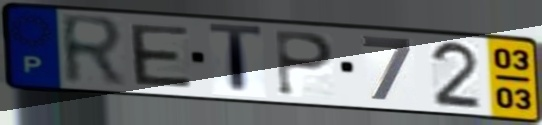2: (426, 38, 486, 111)
7: (358, 33, 418, 105)
E: (126, 22, 196, 91)
P: (273, 28, 338, 99)
R: (57, 11, 129, 90)
T: (206, 21, 266, 100)
